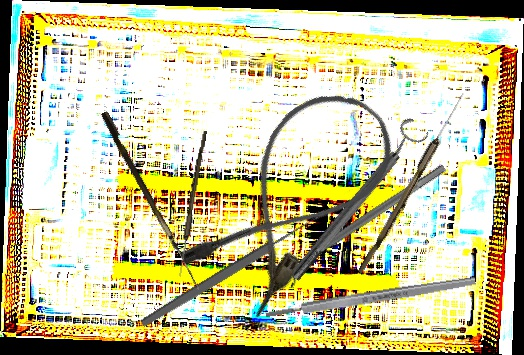Cannula: (171, 68, 412, 326)
Fixation Ring: (280, 115, 433, 287), (275, 155, 453, 289)
Hook Surgical: (97, 110, 208, 291)
Scalpel Handle: (264, 274, 477, 322)
Surgical Spoon: (139, 207, 330, 330), (357, 90, 468, 276), (176, 129, 208, 278)
